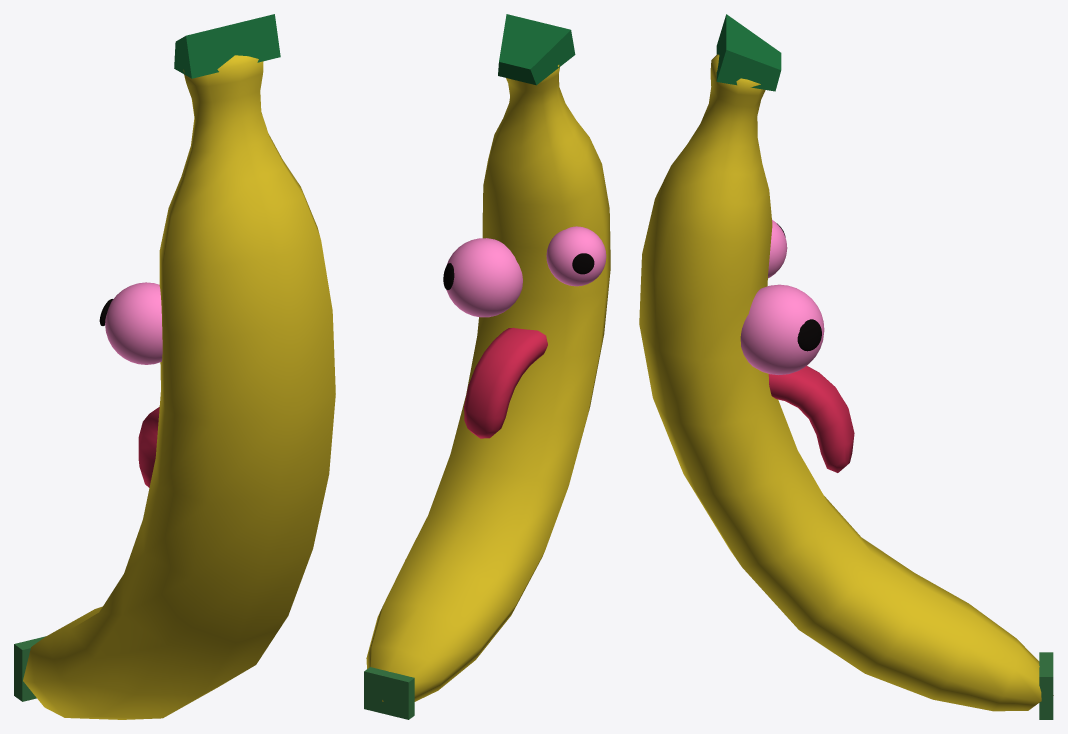
File: Xiangjiao.fbx
3 renders of one model, left to right at view 1: azimuth 30°, elevation 25°; view 2: azimuth 150°, elevation 25°; view 3: azimuth 270°, elevation 25°, orthographic. The views are drawn at different scales.
Parts seen in each view (by area): view 1: 立方体, 立方体.002, 球体.010, 立方体.003, 立方体.001; view 2: 立方体, 立方体.003, 球体.008, 立方体.002, 球体.010, 立方体.001; view 3: 立方体, 球体.008, 立方体.003, 立方体.002, 立方体.001, 球体.010.
Part boxes in pixels (bbox=[...]): 立方体: bbox=[23, 55, 335, 719]; 立方体.002: bbox=[174, 14, 280, 78]; 球体.010: bbox=[105, 282, 162, 364]; 立方体.003: bbox=[138, 407, 159, 487]; 立方体.001: bbox=[14, 636, 45, 701]; 立方体: bbox=[366, 65, 610, 701]; 立方体.003: bbox=[464, 327, 547, 438]; 球体.008: bbox=[446, 238, 522, 317]; 立方体.002: bbox=[498, 14, 575, 85]; 球体.010: bbox=[546, 226, 606, 286]; 立方体.001: bbox=[364, 667, 414, 719]; 立方体: bbox=[639, 54, 1053, 711]; 球体.008: bbox=[740, 284, 824, 374]; 立方体.003: bbox=[768, 366, 854, 472]; 立方体.002: bbox=[716, 14, 781, 91]; 立方体.001: bbox=[1039, 652, 1053, 719]; 球体.010: bbox=[768, 219, 787, 278].
Size of the model in its own units: 182 by 717 by 402.
